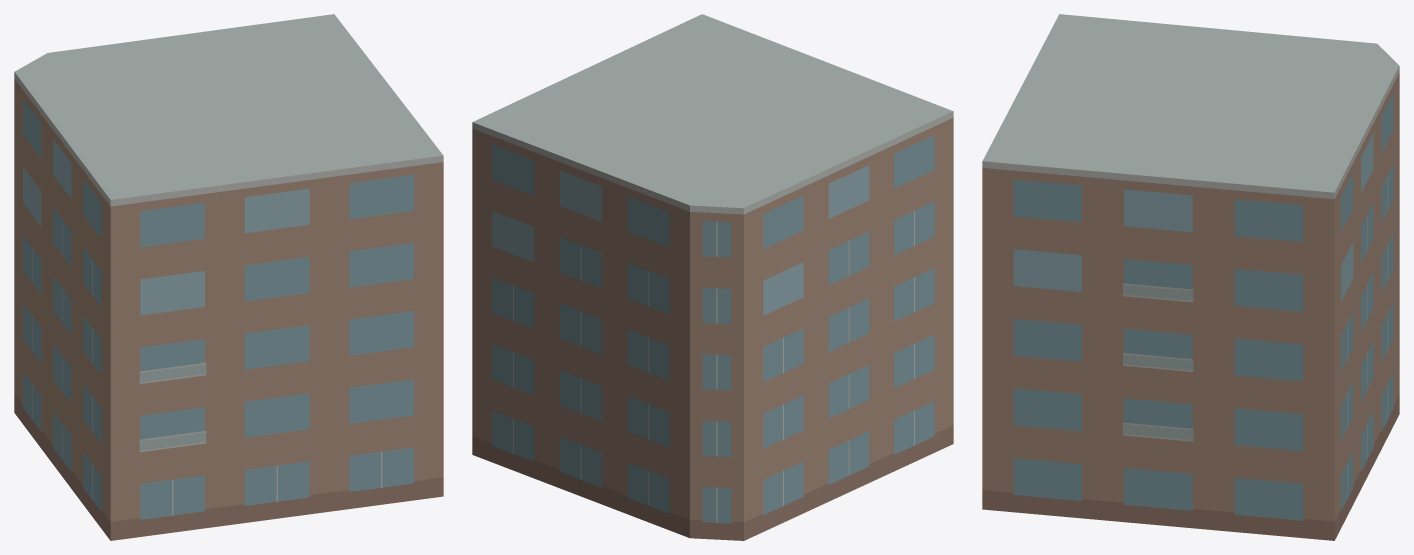
Rendered from survey-upis-32632198.glb.
3 views of the same model, side by side, from view 1: azimuth 30°, elevation 25°; view 2: azimuth 150°, elevation 25°; view 3: azimuth 270°, elevation 25° (orthographic). The views are drawn at different scales.
Visible parts, largest first — view 1: survey-upis-32632198.tmp; view 2: survey-upis-32632198.tmp; view 3: survey-upis-32632198.tmp.
Part boxes in pixels (x1,y1,x2,y2): survey-upis-32632198.tmp: (14, 14, 443, 540); survey-upis-32632198.tmp: (472, 14, 953, 540); survey-upis-32632198.tmp: (982, 14, 1399, 540).
Bounding box in the file's own units: 14.21 × 12.9 × 14.02.
